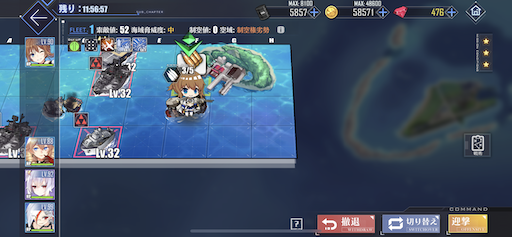lv3: (74, 112, 118, 157), (90, 56, 131, 97)
